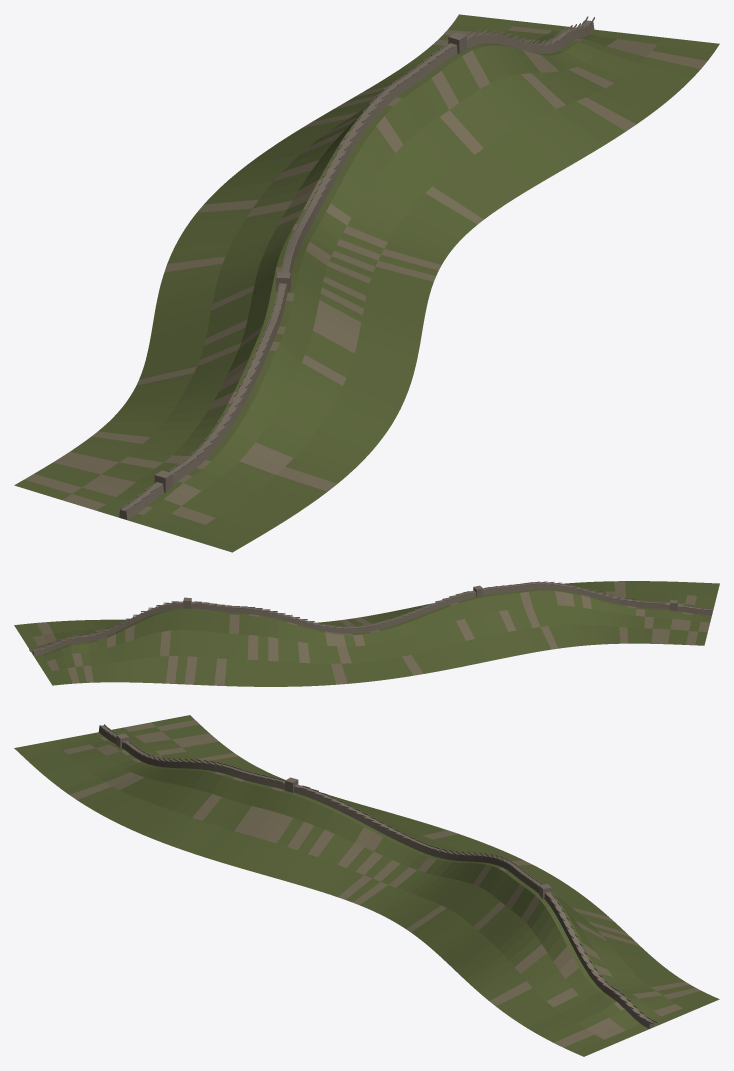
File: great-wall-b60.glb
3 renders of one model, top to bottom at view 1: azimuth 30°, elevation 25°; view 2: azimuth 150°, elevation 25°; view 3: azimuth 270°, elevation 25°, orthographic. The views are drawn at different scales.
Visible parts, largest first — view 1: great-wall-b60; view 2: great-wall-b60; view 3: great-wall-b60.
Boxes of the visible parts, <box> form: great-wall-b60: <box>14,14,719,552</box>; great-wall-b60: <box>14,581,719,686</box>; great-wall-b60: <box>14,715,719,1056</box>.
Size of the model in its own units: 672 by 63.98 by 586.
